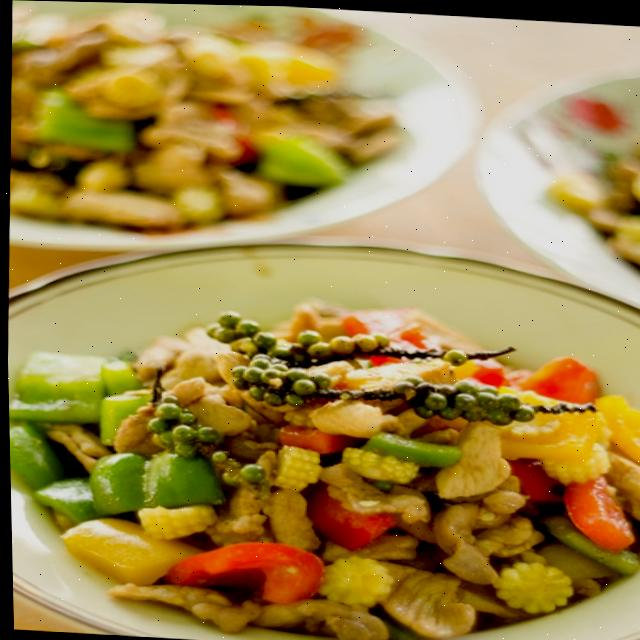蔬菜料理: (4, 235, 640, 640)
